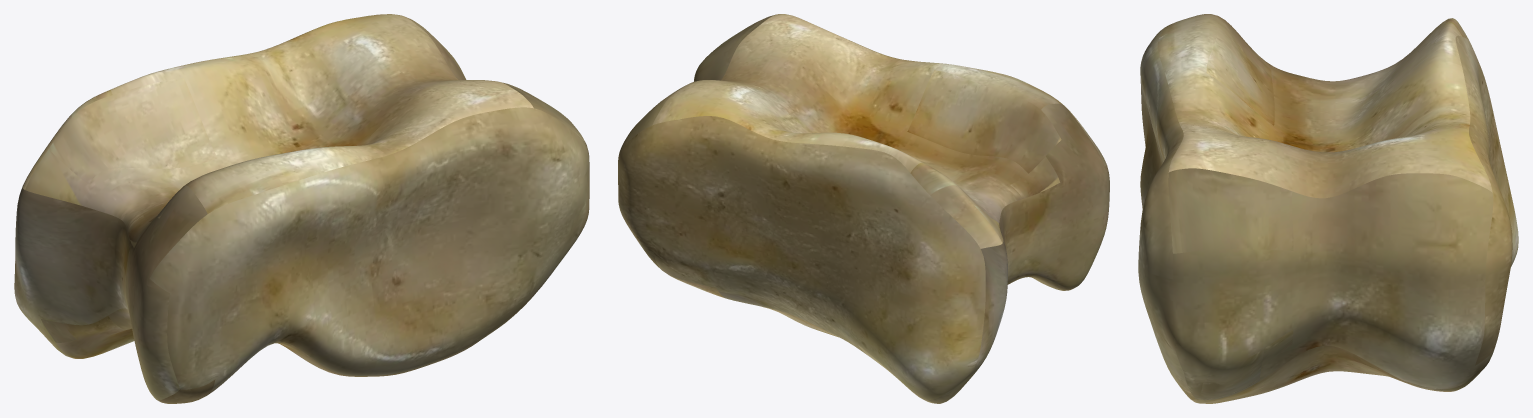
File: Asyk.glb
3 views of the same model, side by side, from view 1: azimuth 30°, elevation 25°; view 2: azimuth 150°, elevation 25°; view 3: azimuth 270°, elevation 25° (orthographic). The views are drawn at different scales.
Size of the model in its own units: 0.7171 by 0.4237 by 0.4816.
1 material, 1 textured.
